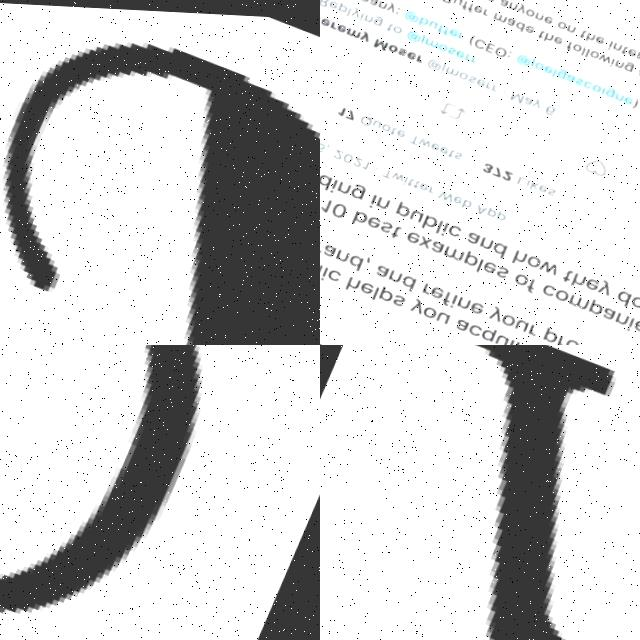2: (320, 138, 334, 152), (550, 99, 564, 113)
3: (351, 106, 365, 120), (499, 162, 513, 175)
5: (0, 0, 320, 345)
H: (320, 345, 640, 640)
